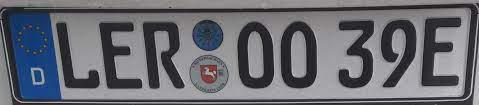3: (335, 19, 376, 89)
9: (378, 18, 419, 89)
E: (98, 21, 144, 90), (420, 15, 463, 88)
L: (54, 21, 101, 90)
O: (279, 20, 321, 90), (235, 20, 276, 90)
R: (142, 20, 187, 90)
